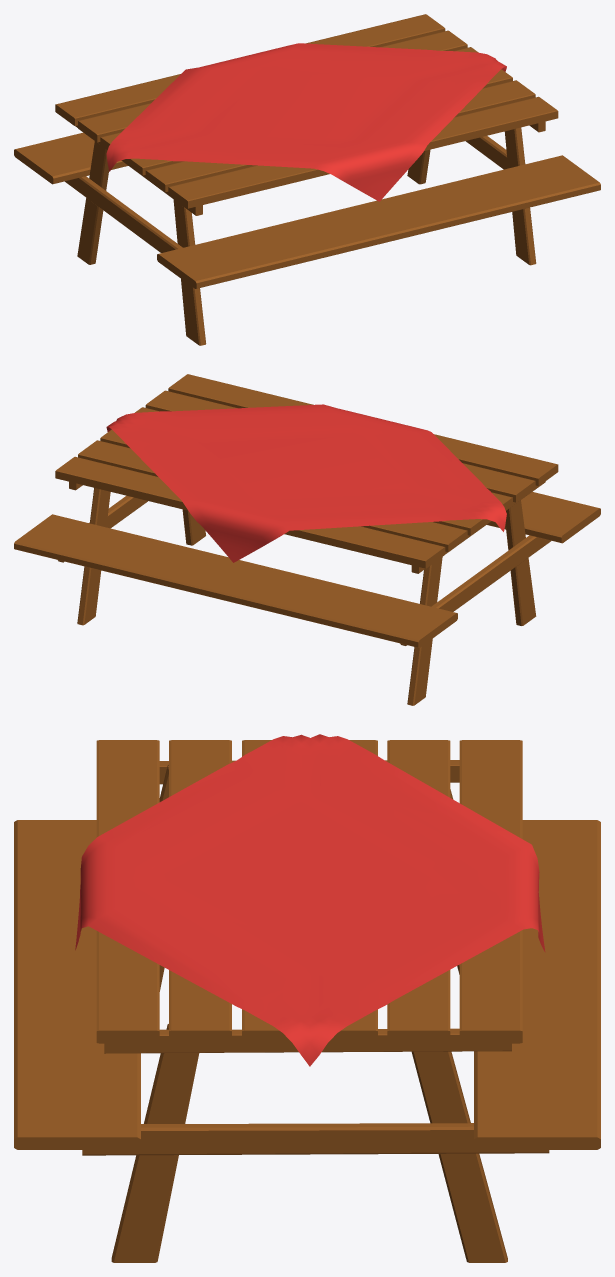
Rendered from SM_PicnicTable.fbx.
3 renders of one model, top to bottom at view 1: azimuth 30°, elevation 25°; view 2: azimuth 150°, elevation 25°; view 3: azimuth 270°, elevation 25°, orthographic. The views are drawn at different scales.
Parts seen in each view (by area): view 1: PicnicTable; view 2: PicnicTable; view 3: PicnicTable.
Boxes of the visible parts, x1,y1,x2,y2 form: PicnicTable: (14,14,600,345); PicnicTable: (14,374,600,705); PicnicTable: (14,734,600,1262).
Size of the model in its own units: 1.29 by 1.65 by 0.6065.
